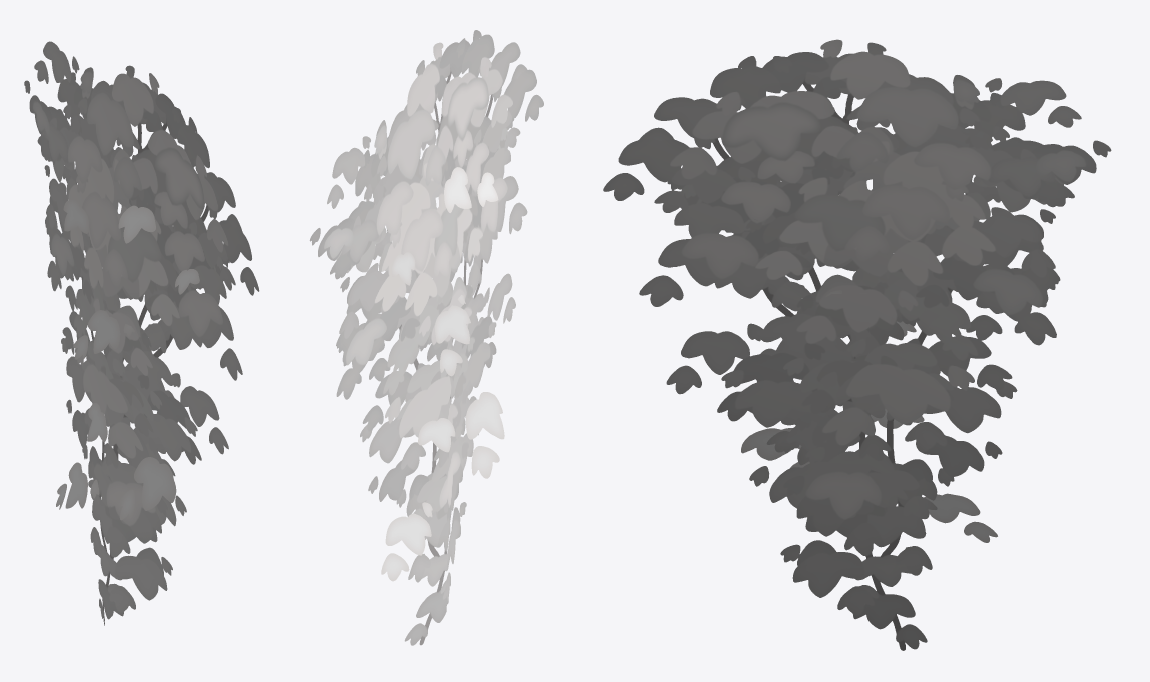
File: VinesWall.fbx
3 renders of one model, left to right at view 1: azimuth 30°, elevation 25°; view 2: azimuth 150°, elevation 25°; view 3: azimuth 270°, elevation 25°, orthographic. The views are drawn at different scales.
Parts seen in each view (by area): view 1: Plane.756; view 2: Plane.756; view 3: Plane.756.
Boxes of the visible parts, bbox=[...] form: Plane.756: bbox=[24, 41, 259, 625]; Plane.756: bbox=[309, 30, 543, 645]; Plane.756: bbox=[603, 39, 1111, 650].
Bounding box in the file's own units: 39.47 × 400 × 307.
